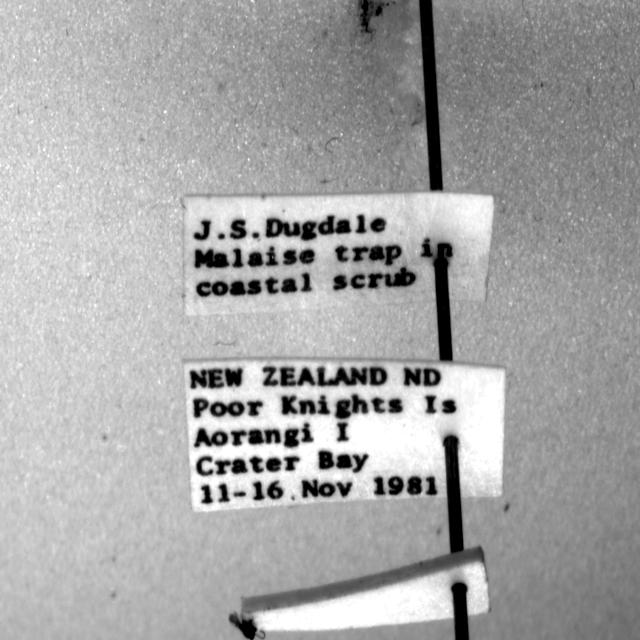typed_label: (184, 358, 505, 512), (184, 191, 494, 315)
